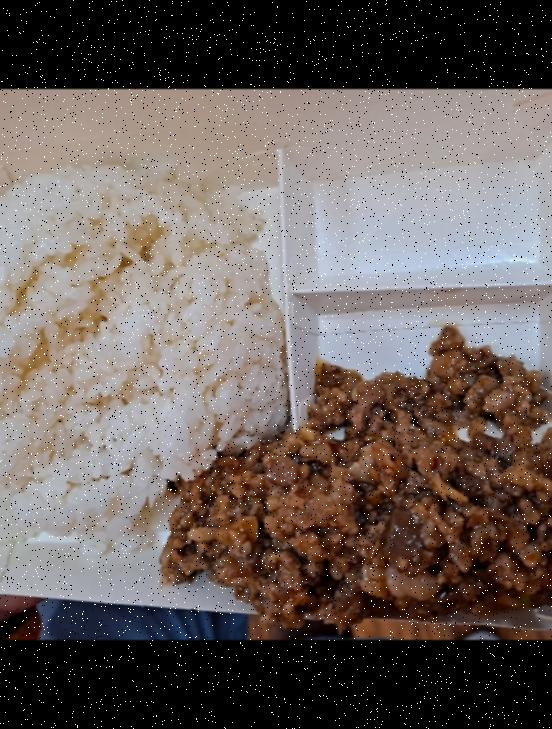box: (0, 108, 552, 630)
stir-fried minced pork: (148, 343, 552, 630)
white rice: (0, 158, 283, 552)
